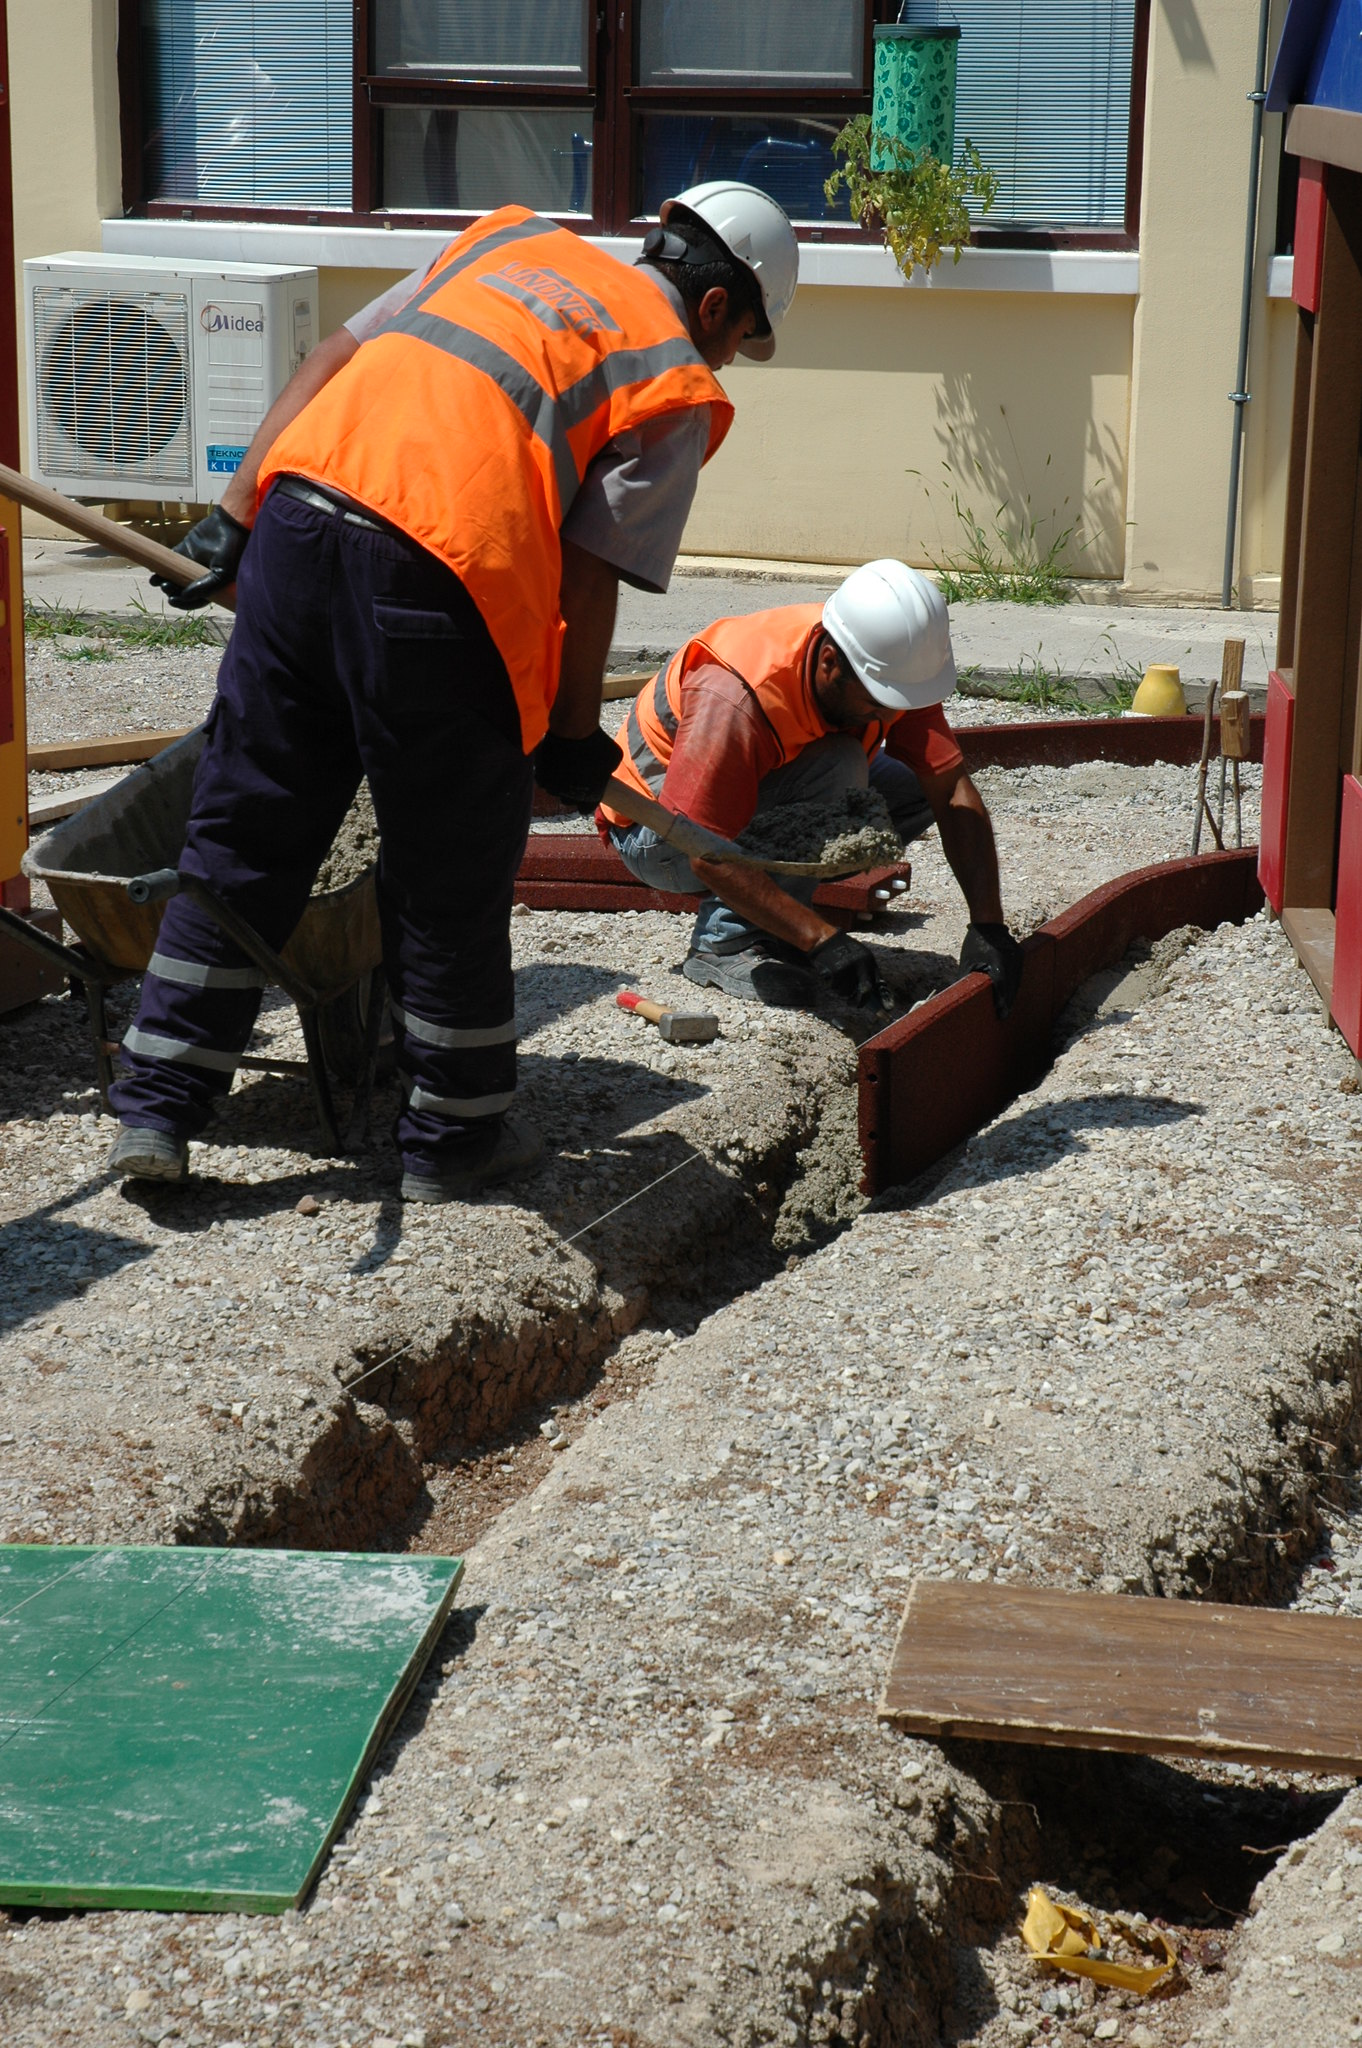Helmet: (651, 170, 824, 363), (815, 550, 974, 744)
Reflective vest: (223, 181, 748, 760), (591, 583, 906, 872)
